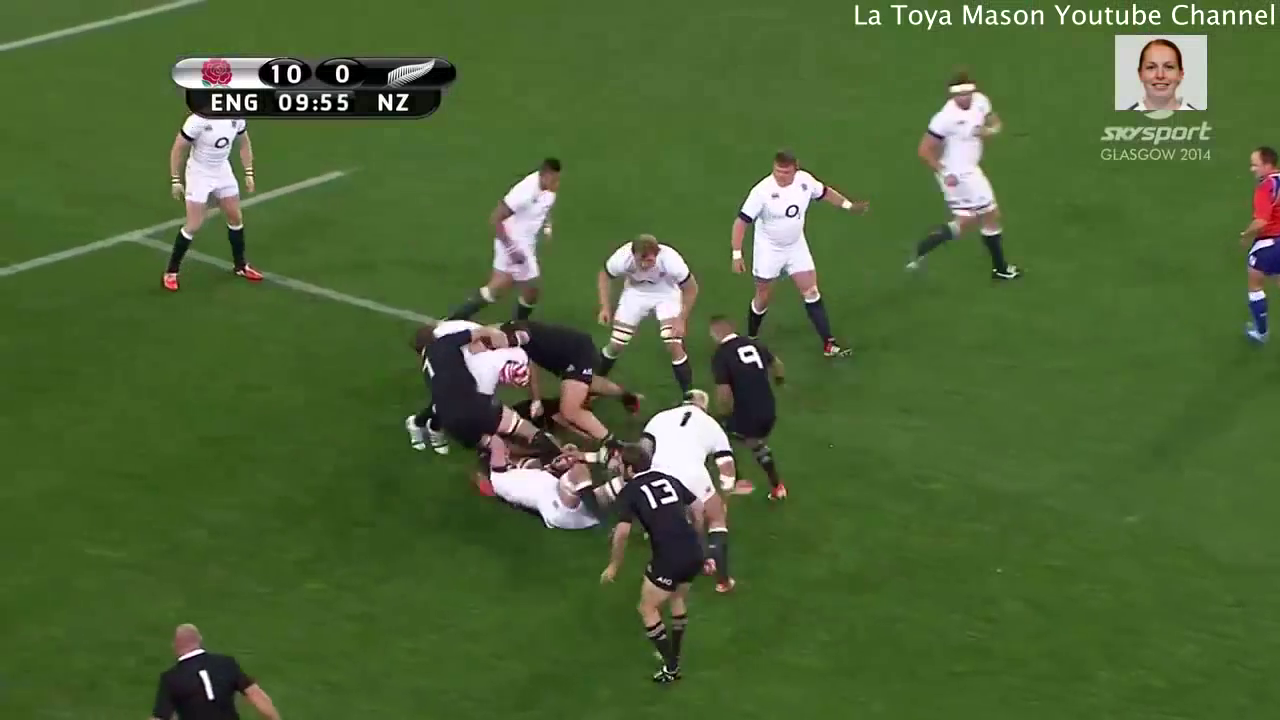player: (722, 142, 881, 375), (594, 441, 713, 694), (900, 67, 1027, 292), (433, 148, 573, 352), (145, 86, 277, 300), (631, 382, 752, 600), (396, 318, 559, 467), (481, 305, 645, 448), (583, 225, 697, 425), (693, 303, 797, 513), (455, 422, 606, 532), (135, 618, 286, 720), (1230, 138, 1280, 346)
